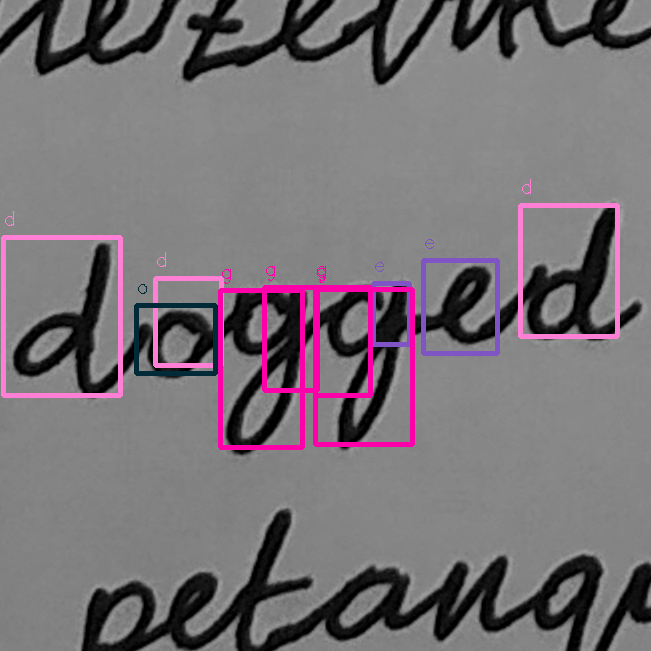d: (7, 236, 119, 404), (520, 199, 622, 351)
e: (431, 259, 502, 355)
g: (218, 278, 316, 461), (322, 273, 416, 460)
o: (138, 305, 216, 385)
